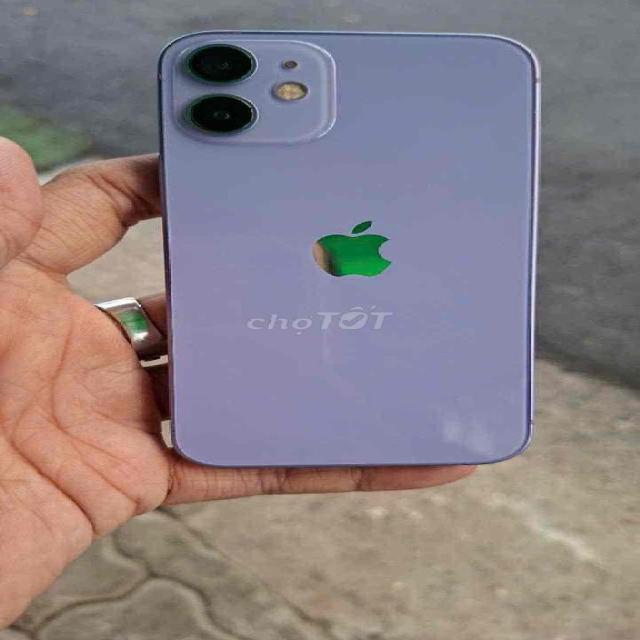gen_12_13: (145, 21, 550, 474)
